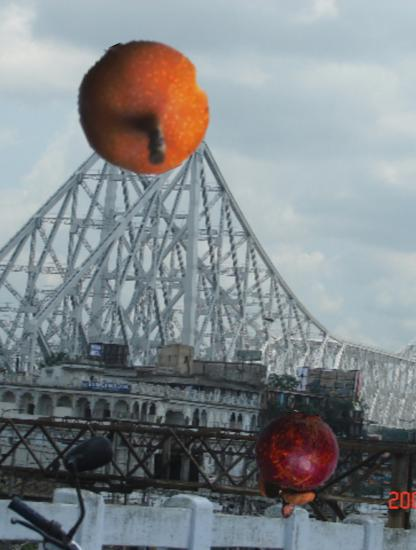Granadilla: (75, 38, 213, 176)
Mangostan: (240, 411, 349, 520)
